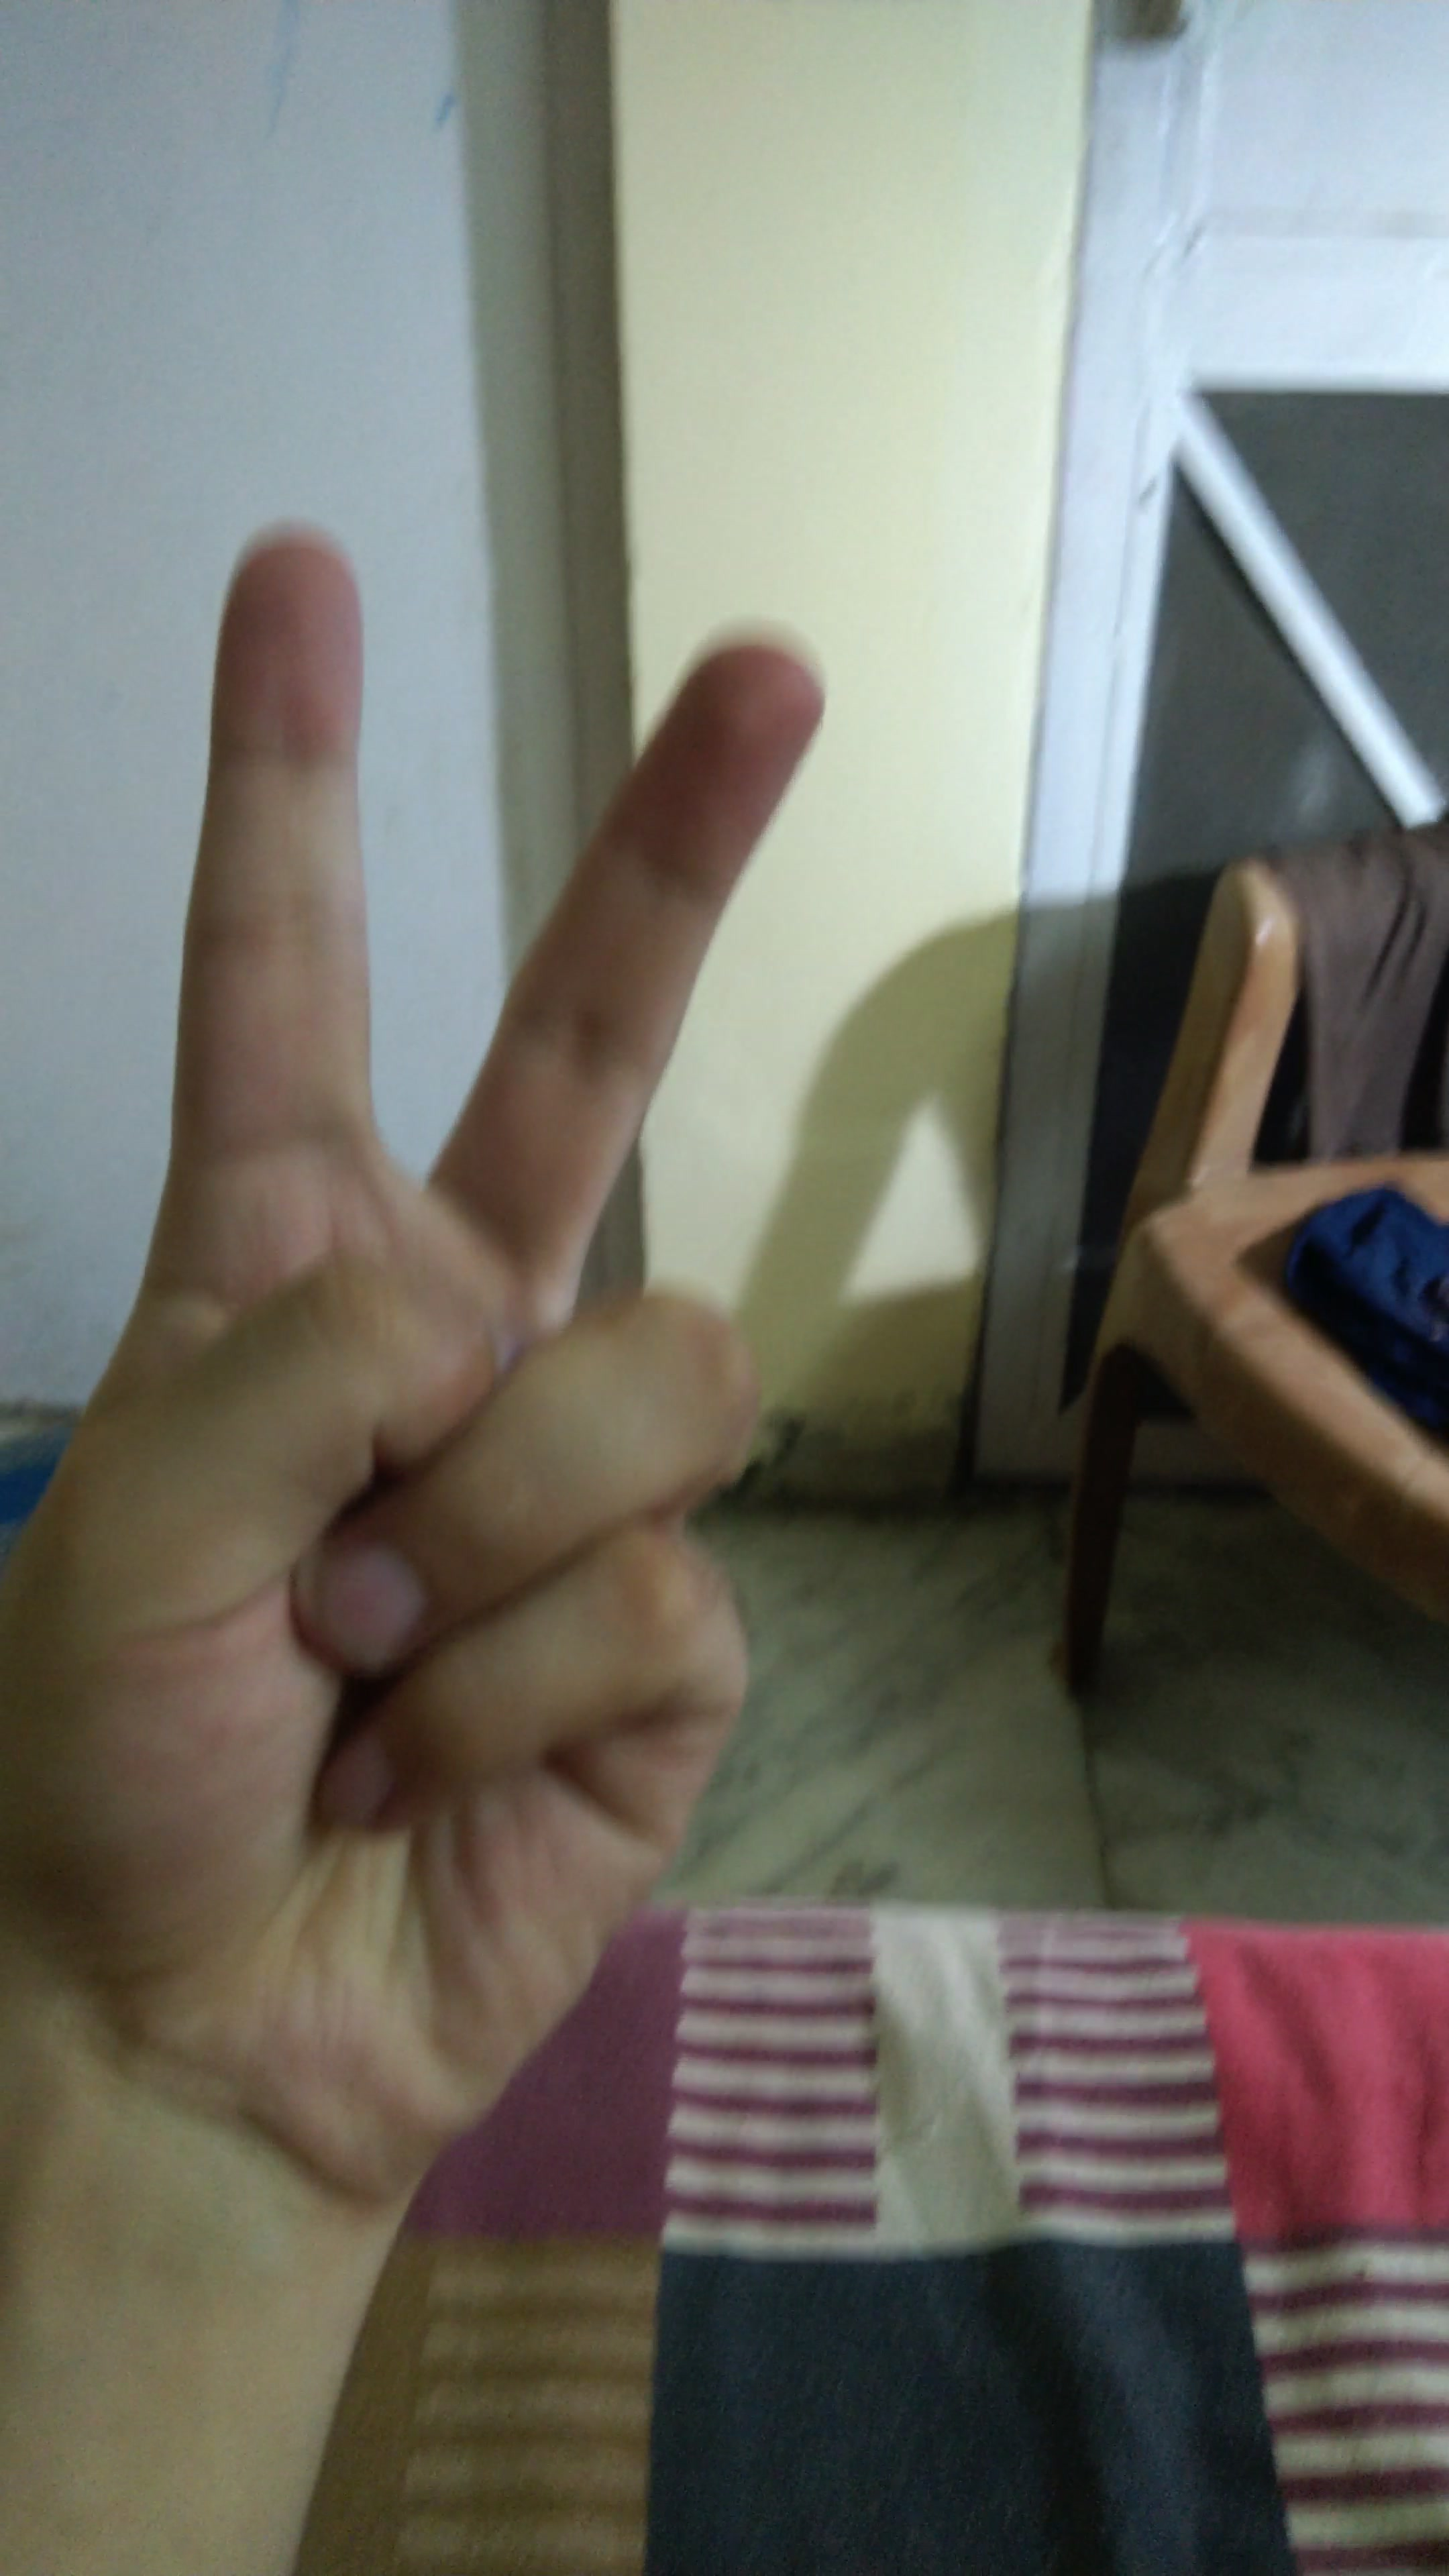hand: (35, 474, 879, 2180)
